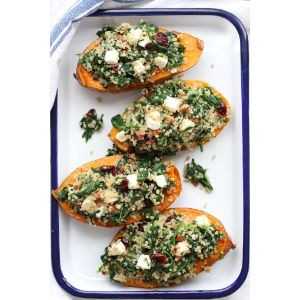sweet potato_brain food: (75, 68, 226, 257)
